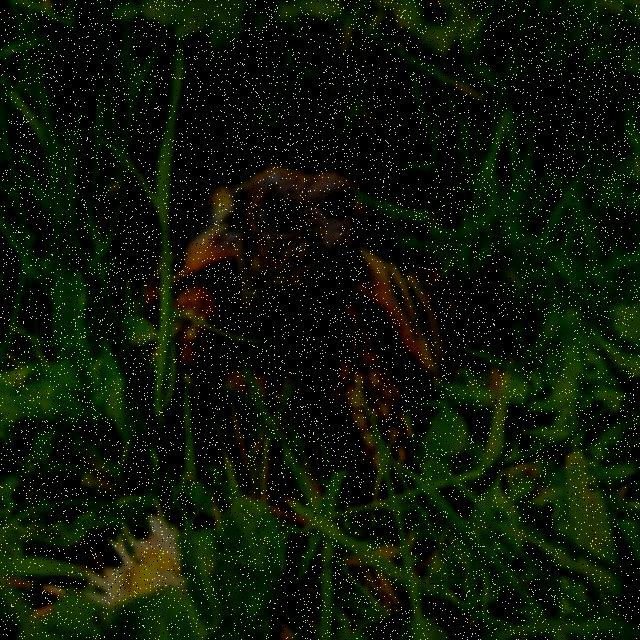tortoise: (130, 150, 483, 482)
